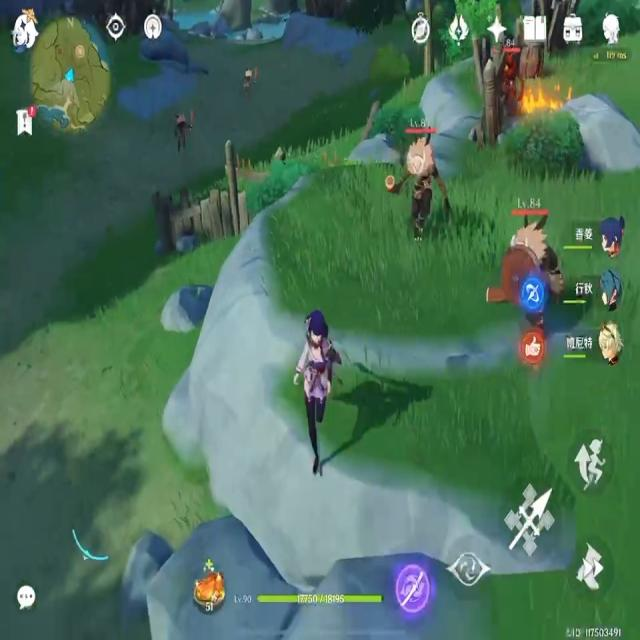genshin-hilichurls: (383, 115, 443, 245), (499, 185, 562, 290), (501, 37, 524, 105), (171, 106, 199, 154), (238, 67, 260, 99)
